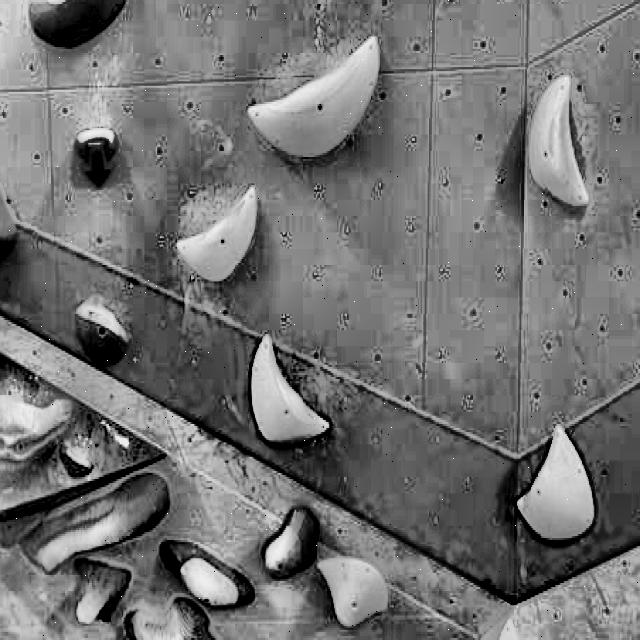Downclimb: (74, 126, 116, 185)
Hold: (246, 37, 378, 157), (16, 473, 167, 575), (515, 426, 593, 542), (249, 336, 327, 444), (528, 75, 588, 206), (0, 395, 75, 493), (176, 188, 255, 281), (159, 540, 253, 609), (316, 558, 387, 626), (27, 0, 125, 45), (259, 505, 317, 579), (123, 597, 215, 640), (72, 556, 130, 624), (75, 300, 126, 365), (57, 438, 95, 479)
